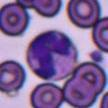N: (26, 30, 78, 81)
